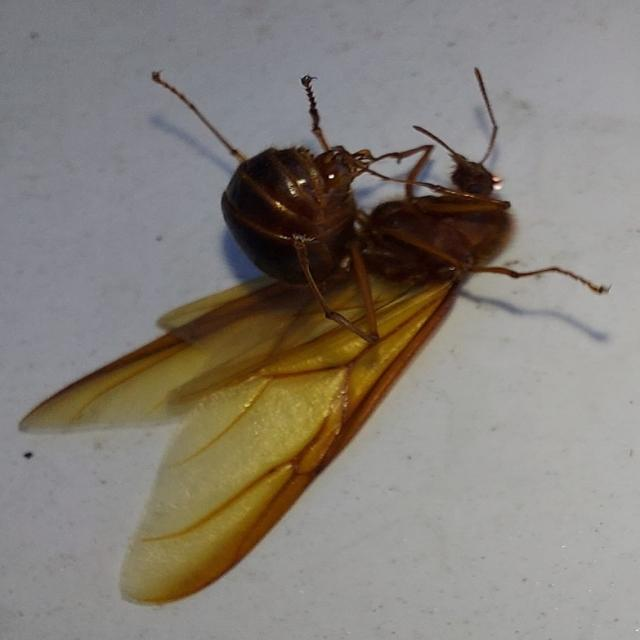Dead-Male-Alate: (19, 67, 609, 604)
